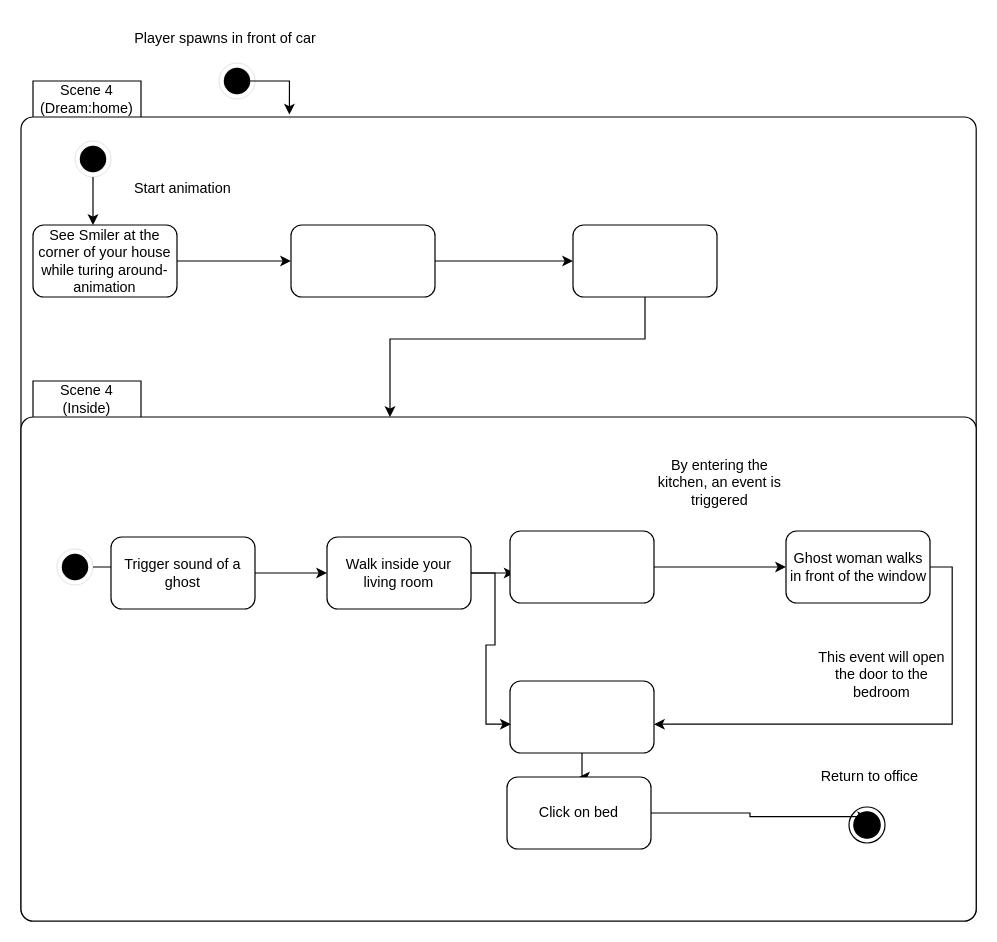
Image size: 997x942. Some labels were removed from this diagram. The centre of each missing label's shape, as x and y in pixels:
Go to bedroom: the point at 581,716
Go to the kitchen: the point at 581,566
Goes through open door: the point at 644,260
Walk around outside: the point at 362,260
